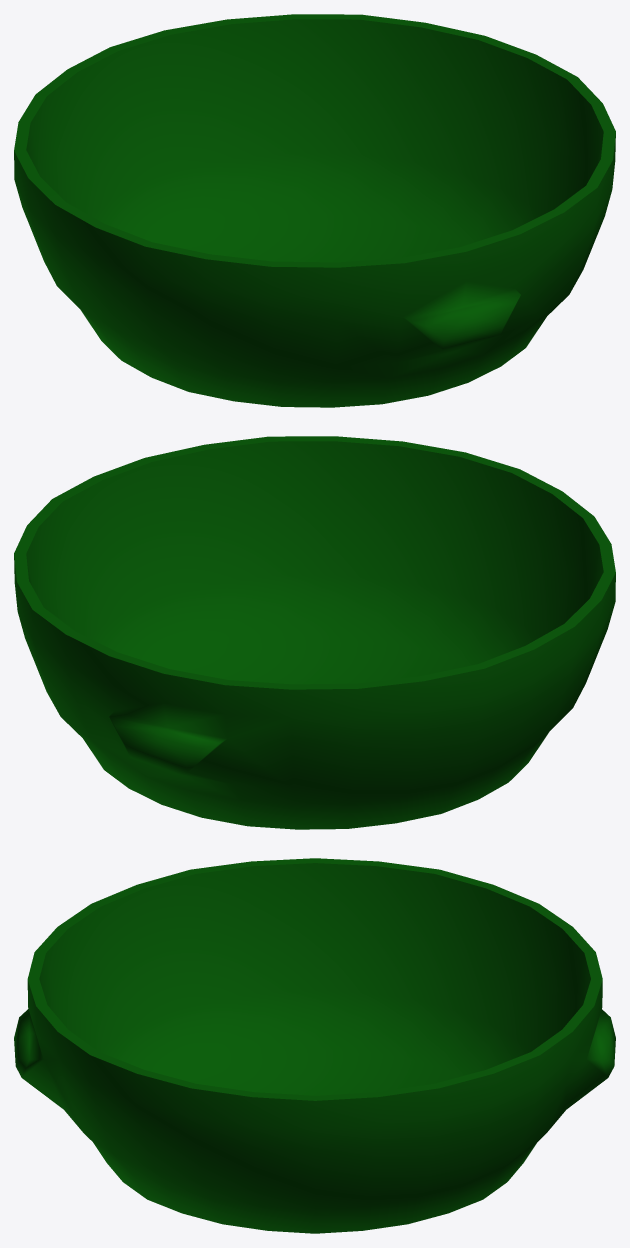
File: jug11.FBX
3 views of the same model, one above another, from view 1: azimuth 30°, elevation 25°; view 2: azimuth 150°, elevation 25°; view 3: azimuth 270°, elevation 25° (orthographic). The views are drawn at different scales.
Visible parts, largest first — view 1: SM_jug11_0; view 2: SM_jug11_0; view 3: SM_jug11_0.
Part boxes in pixels (x1,y1,x2,y2): SM_jug11_0: (14,14,615,407); SM_jug11_0: (14,436,615,829); SM_jug11_0: (14,858,615,1233).
Bounding box in the file's own units: 37.16 × 38.95 × 11.7.
